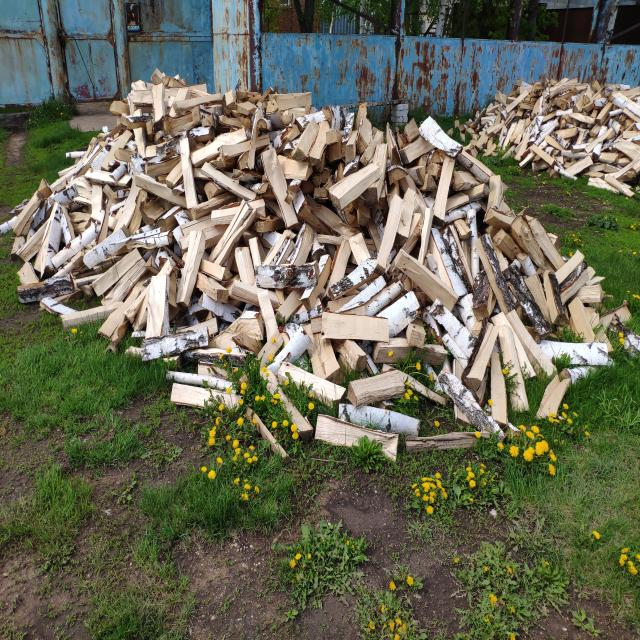restos de madeira: (15, 71, 614, 444), (453, 71, 640, 194)
